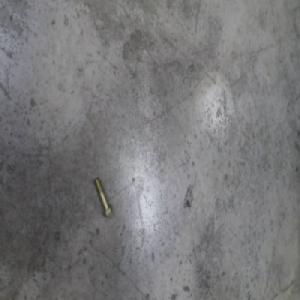Bolt: (93, 175, 112, 219)
